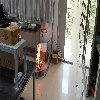fire: (36, 43, 42, 67)
